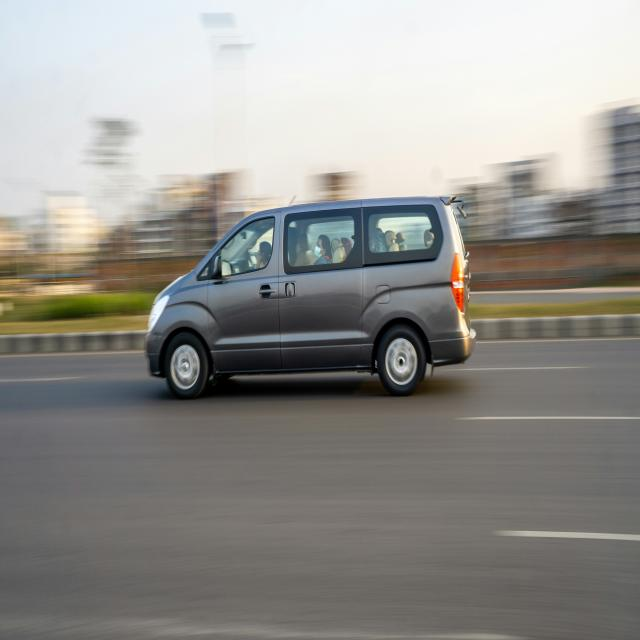Car: (146, 198, 475, 398)
